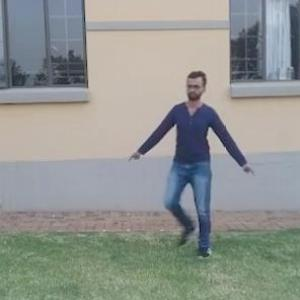land: (137, 72, 260, 243)
